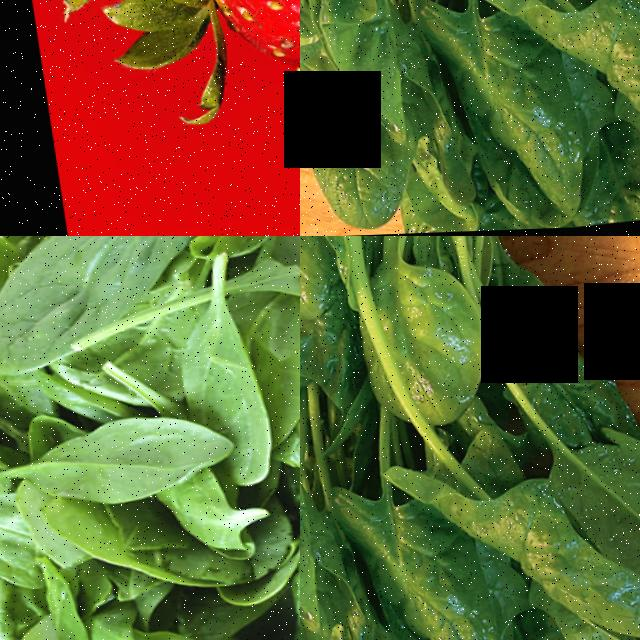spinach: (406, 457, 640, 640), (0, 236, 210, 380), (492, 0, 640, 190), (5, 415, 231, 511), (375, 243, 484, 416), (300, 91, 407, 233), (300, 236, 345, 327), (0, 493, 24, 598)
strawberry: (71, 0, 300, 112)
tofu: (415, 0, 578, 233), (329, 484, 492, 640)
